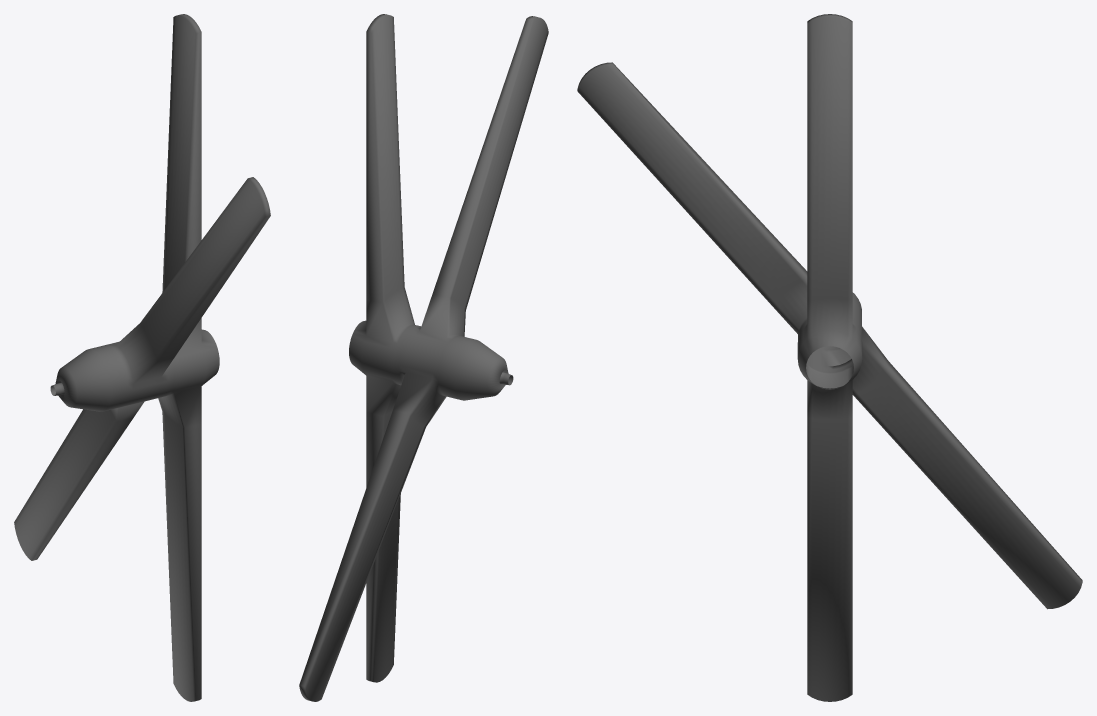
File: Mi28_tail_rotor.fbx
3 renders of one model, left to right at view 1: azimuth 30°, elevation 25°; view 2: azimuth 150°, elevation 25°; view 3: azimuth 270°, elevation 25°, orthographic. The views are drawn at different scales.
Parts seen in each view (by area): view 1: Cylinder.004; view 2: Cylinder.004; view 3: Cylinder.004.
Boxes of the visible parts, <box> form: Cylinder.004: <box>14,14,270,701</box>; Cylinder.004: <box>299,14,548,701</box>; Cylinder.004: <box>577,14,1082,701</box>.
Bounding box in the file's own units: 0.3373 × 1.42 × 0.9489.
